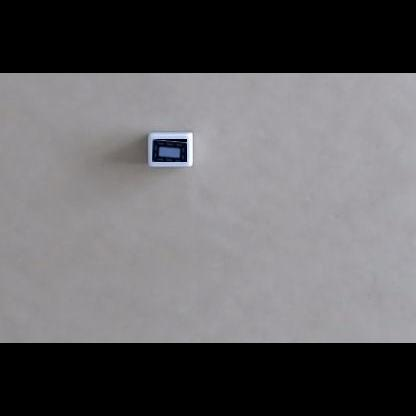5z: (152, 139, 187, 162)
